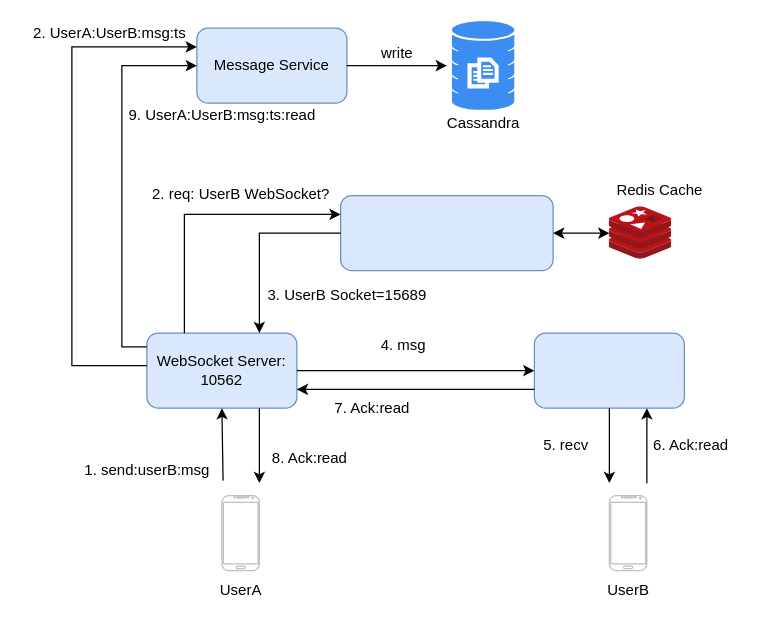
Some shapes in this 761 by 625 pixel diagram are drawn without their labels. Here are the shapes that lost their labels. From the top down, the box of each, then its label:
(339, 194, 553, 271): WebSocket Service UserA: 10562 UserB: 15689
(533, 332, 684, 408): WebSocket Server: 15689
